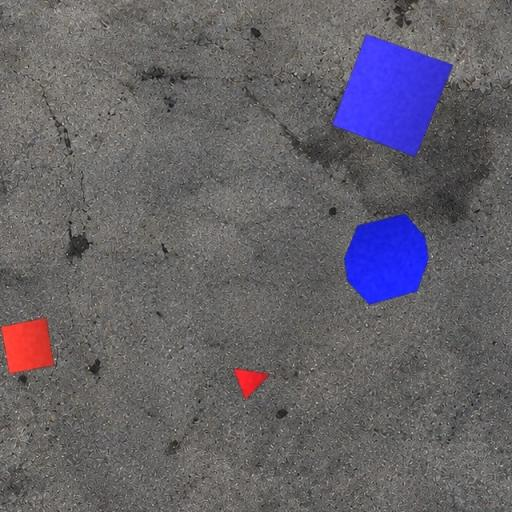BLUE_SQUARE: (331, 34, 454, 158)
RED_SQUARE: (1, 317, 54, 374)
